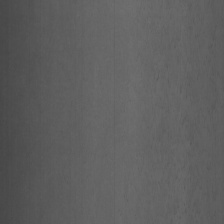silk_spot: (132, 7, 217, 211)
